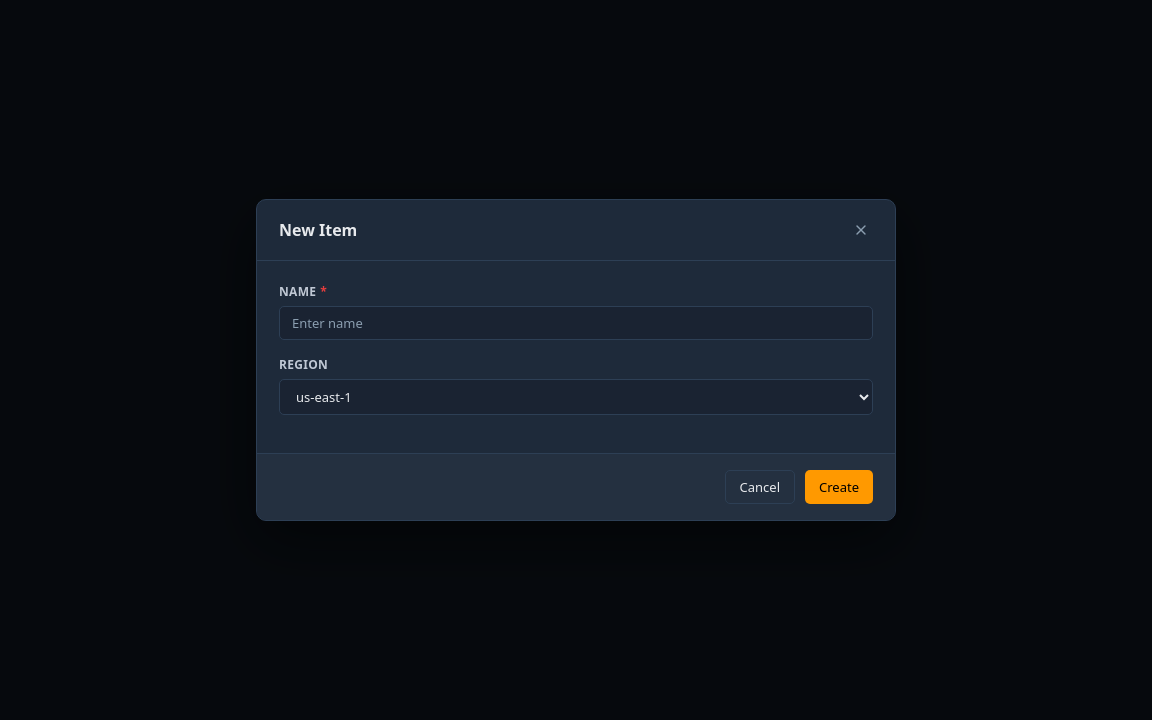
Test: CreateModal › shows validation error for required field on submit
Click the button "Create" at (839, 487), box [805, 470, 873, 504]
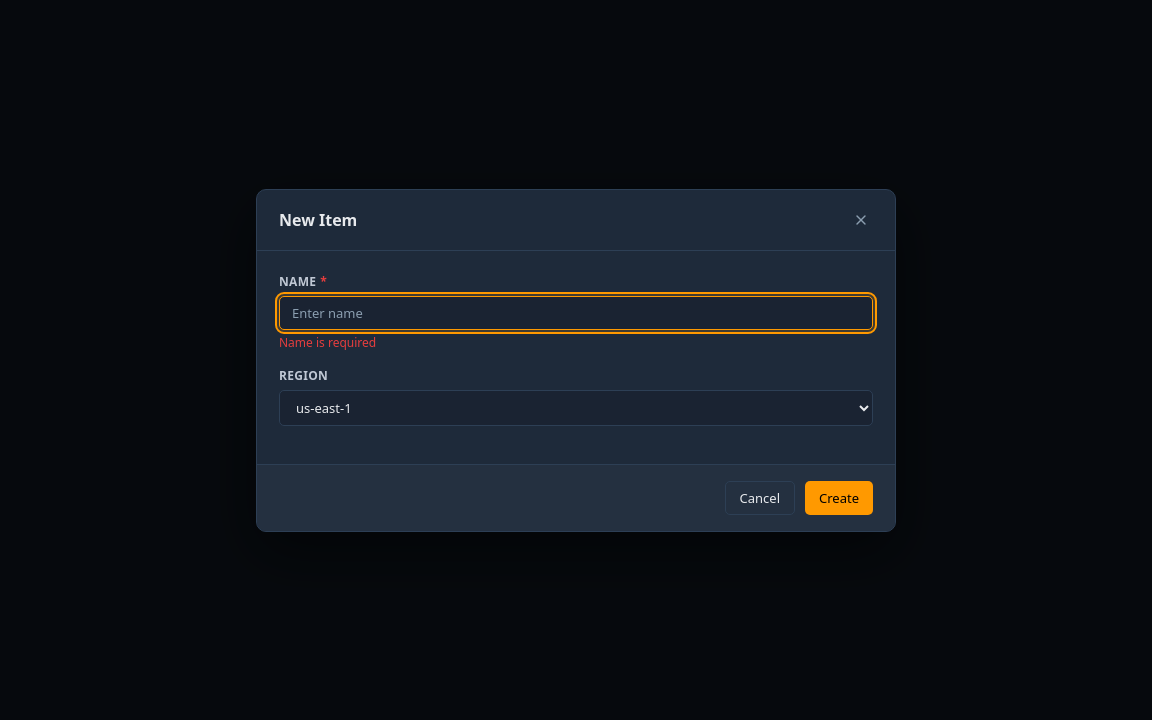
expect the text "Name is required" is shown: met, box [279, 334, 376, 350]
